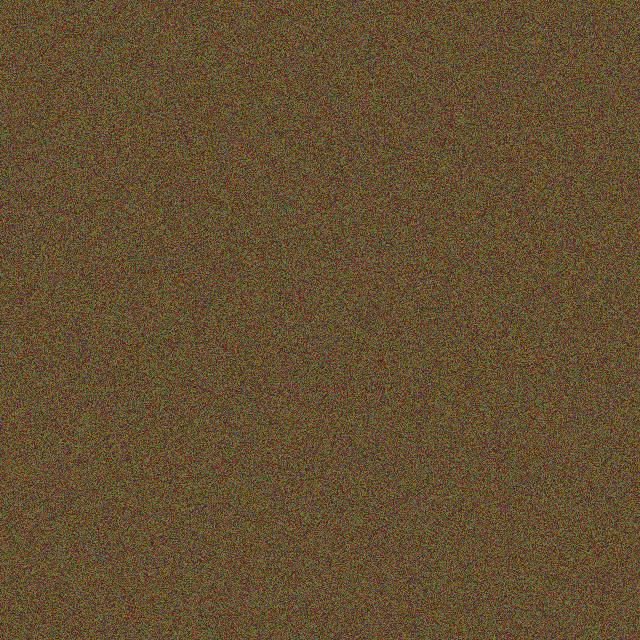human: (423, 205, 549, 326)
